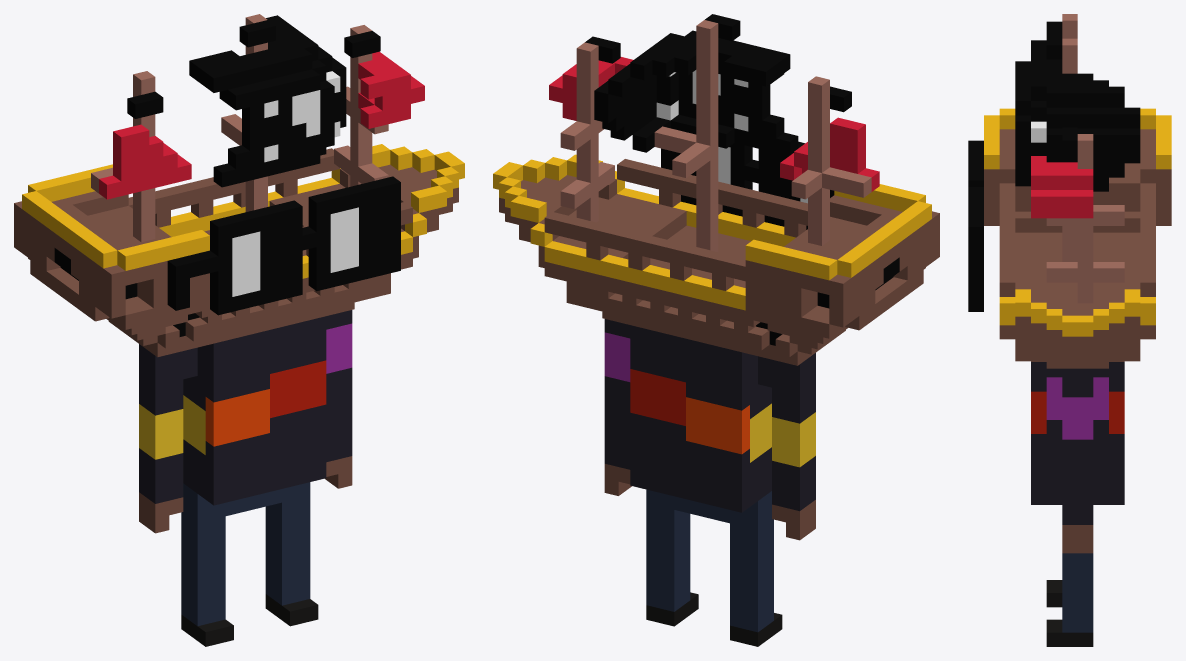
File: Pirate.gltf
The picture shows the model from 3 angles, left to right: view 1: azimuth 30°, elevation 25°; view 2: azimuth 150°, elevation 25°; view 3: azimuth 270°, elevation 25°; orthographic projection. The views are drawn at different scales.
Parts seen in each view (by area): view 1: Head-Pirate, Body-RainbowSteps, Glasses2, Pants-Denim2, Shoes-Black2; view 2: Head-Pirate, Body-RainbowSteps, Pants-Denim2, Glasses2, Shoes-Black2; view 3: Head-Pirate, Body-RainbowSteps, Glasses2, Pants-Denim2, Shoes-Black2.
Boxes of the visible parts, left/top/right/bottom form: Head-Pirate: left=14, top=14, right=464, bottom=533; Body-RainbowSteps: left=139, top=310, right=352, bottom=505; Glasses2: left=167, top=176, right=400, bottom=315; Pants-Denim2: left=181, top=482, right=310, bottom=626; Shoes-Black2: left=181, top=594, right=318, bottom=646; Head-Pirate: left=493, top=14, right=939, bottom=540; Body-RainbowSteps: left=604, top=319, right=815, bottom=512; Pants-Denim2: left=646, top=489, right=773, bottom=632; Glasses2: left=661, top=141, right=834, bottom=229; Shoes-Black2: left=646, top=592, right=782, bottom=646; Head-Pirate: left=984, top=14, right=1171, bottom=553; Body-RainbowSteps: left=1031, top=362, right=1124, bottom=524; Glasses2: left=968, top=140, right=983, bottom=311; Pants-Denim2: left=1062, top=553, right=1093, bottom=632; Shoes-Black2: left=1046, top=580, right=1093, bottom=646.
Bounding box in the file's own units: 0.28 × 0.41 × 0.13.
Materials: 1 (1 with a texture image).
